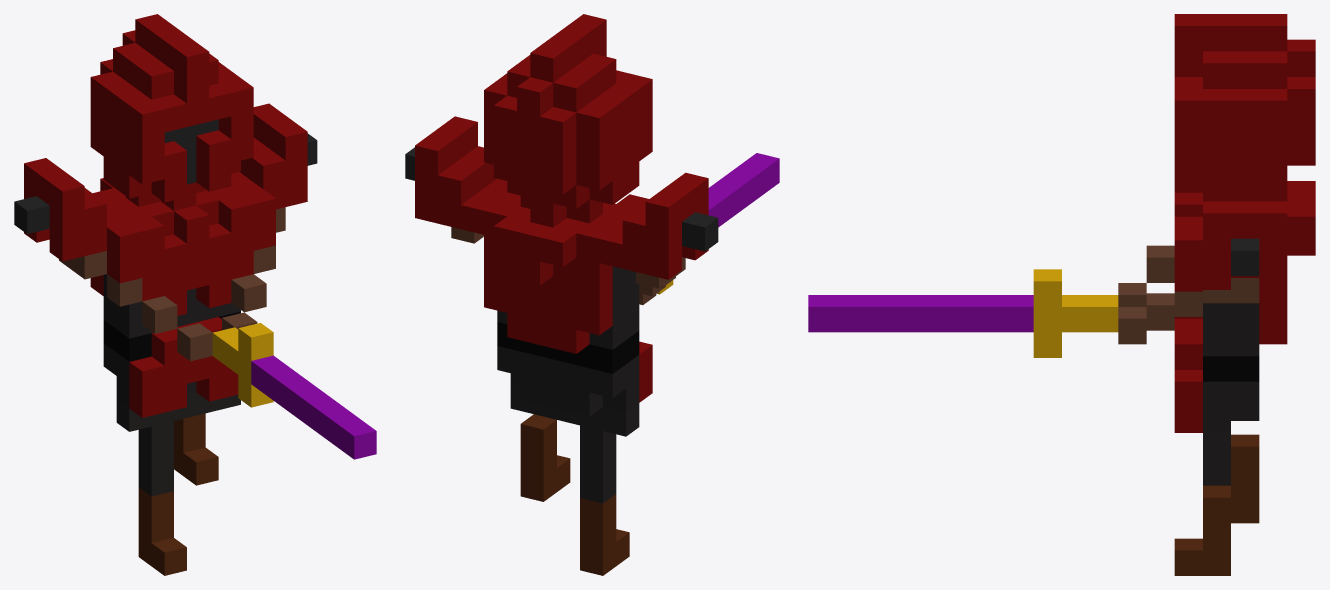
Rendered from SwingingBlackNight-5.obj.
The picture shows the model from 3 angles, left to right: view 1: azimuth 30°, elevation 25°; view 2: azimuth 150°, elevation 25°; view 3: azimuth 270°, elevation 25°; orthographic projection. The views are drawn at different scales.
Visible parts, largest first — view 1: SwingingBlackNight-5; view 2: SwingingBlackNight-5; view 3: SwingingBlackNight-5.
Part boxes in pixels (x1=…): SwingingBlackNight-5: x1=14, y1=14, x2=376, y2=575; SwingingBlackNight-5: x1=405, y1=14, x2=779, y2=575; SwingingBlackNight-5: x1=808, y1=14, x2=1315, y2=575.
Size of the model in its own units: 13 by 22 by 18.
Materials: 1 (1 with a texture image).
